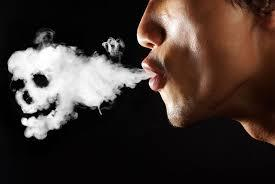smoke: (7, 33, 151, 141)
